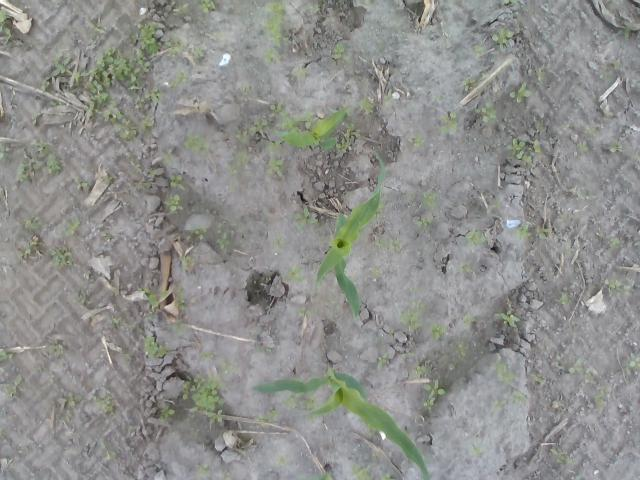Maize: (250, 360, 430, 480), (316, 150, 383, 318), (278, 108, 347, 156)
Weeds: (85, 18, 163, 142), (227, 102, 285, 177), (180, 374, 227, 426), (15, 138, 66, 182), (259, 0, 290, 65), (40, 53, 85, 91), (126, 154, 158, 192), (15, 214, 42, 257), (506, 136, 544, 166), (136, 286, 166, 322), (173, 279, 189, 338), (335, 122, 361, 155), (494, 302, 524, 330), (399, 299, 424, 332), (48, 244, 75, 274), (142, 334, 170, 360), (182, 130, 210, 156), (422, 379, 447, 408), (448, 339, 472, 368), (294, 206, 318, 235), (469, 100, 497, 123), (506, 80, 532, 104), (256, 404, 282, 428), (437, 109, 458, 138), (495, 357, 517, 384), (164, 31, 187, 56), (568, 354, 594, 376), (490, 25, 514, 48), (351, 94, 376, 116), (418, 189, 444, 210), (0, 8, 16, 42), (366, 237, 402, 252), (214, 222, 232, 252), (95, 386, 114, 414), (462, 227, 486, 249), (182, 224, 208, 244), (167, 70, 191, 90), (159, 194, 183, 214), (1, 376, 22, 398), (608, 278, 631, 298), (62, 215, 81, 238), (272, 454, 296, 472), (551, 445, 572, 465), (430, 321, 450, 342), (178, 255, 200, 274), (512, 222, 533, 241), (286, 263, 308, 281), (351, 463, 374, 480), (305, 398, 320, 424), (407, 132, 426, 152), (72, 174, 93, 192), (414, 214, 434, 232), (62, 390, 82, 408), (168, 174, 188, 192), (0, 138, 15, 162), (594, 386, 610, 408), (299, 471, 338, 480), (70, 286, 88, 305), (330, 41, 344, 65), (171, 1, 193, 16), (159, 402, 177, 420), (198, 0, 218, 15), (462, 310, 478, 328), (575, 140, 591, 158), (606, 140, 624, 156), (306, 0, 324, 16), (287, 392, 305, 408), (222, 360, 240, 376), (535, 224, 552, 240), (160, 148, 174, 167), (298, 306, 320, 318), (270, 238, 288, 252), (472, 43, 488, 58), (302, 110, 314, 130), (622, 23, 636, 40), (456, 260, 474, 273), (190, 424, 203, 442), (292, 65, 309, 78), (529, 371, 546, 384), (627, 352, 640, 368), (48, 341, 64, 354), (461, 78, 478, 90), (477, 63, 489, 80), (609, 58, 625, 70), (366, 423, 378, 439), (376, 352, 388, 368), (369, 265, 383, 278), (197, 462, 210, 476), (192, 46, 206, 59), (384, 88, 394, 105), (0, 349, 13, 362), (493, 400, 507, 412), (557, 290, 569, 304), (608, 236, 622, 248), (102, 448, 116, 460), (416, 364, 428, 378), (430, 95, 448, 104), (198, 352, 218, 360), (360, 0, 376, 9), (240, 80, 252, 92), (471, 446, 483, 458), (562, 244, 574, 256), (489, 199, 502, 210), (511, 390, 525, 400), (585, 126, 599, 136), (255, 346, 272, 354), (399, 350, 416, 358), (206, 30, 219, 40), (502, 0, 520, 7), (535, 68, 545, 80), (558, 212, 568, 224), (111, 318, 123, 328), (48, 99, 62, 107), (46, 374, 57, 384), (382, 473, 397, 480), (408, 286, 420, 294), (632, 238, 640, 250), (370, 450, 381, 458), (224, 471, 233, 480), (399, 458, 408, 466), (388, 328, 397, 336), (607, 74, 614, 80)
